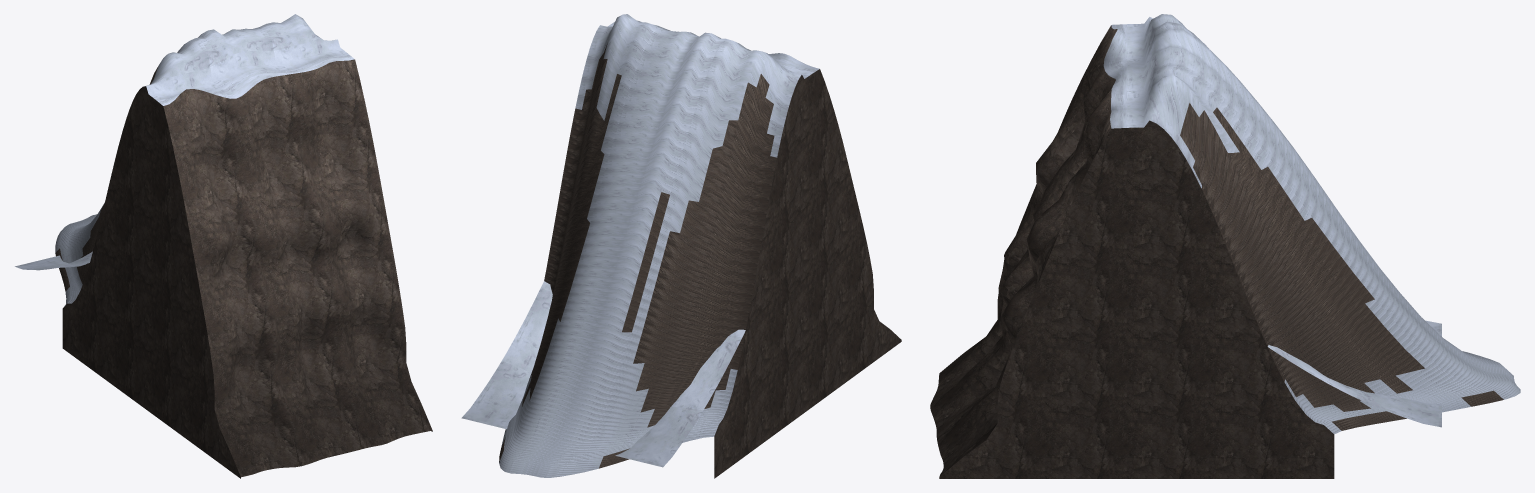
Rendered from seacliff_straight6_h8_v5_winter.glb.
3 views of the same model, side by side, from view 1: azimuth 30°, elevation 25°; view 2: azimuth 150°, elevation 25°; view 3: azimuth 270°, elevation 25° (orthographic). The views are drawn at different scales.
Parts seen in each view (by area): view 1: seacliff_straight6_h8; view 2: seacliff_straight6_h8; view 3: seacliff_straight6_h8.
Boxes of the visible parts, box(x1,y1,x2,y2) form: seacliff_straight6_h8: box(15, 14, 432, 478); seacliff_straight6_h8: box(461, 14, 901, 478); seacliff_straight6_h8: box(930, 14, 1520, 478).
Bounding box in the file's own units: 6 × 10.49 × 14.44.
2 materials, 2 textured.
